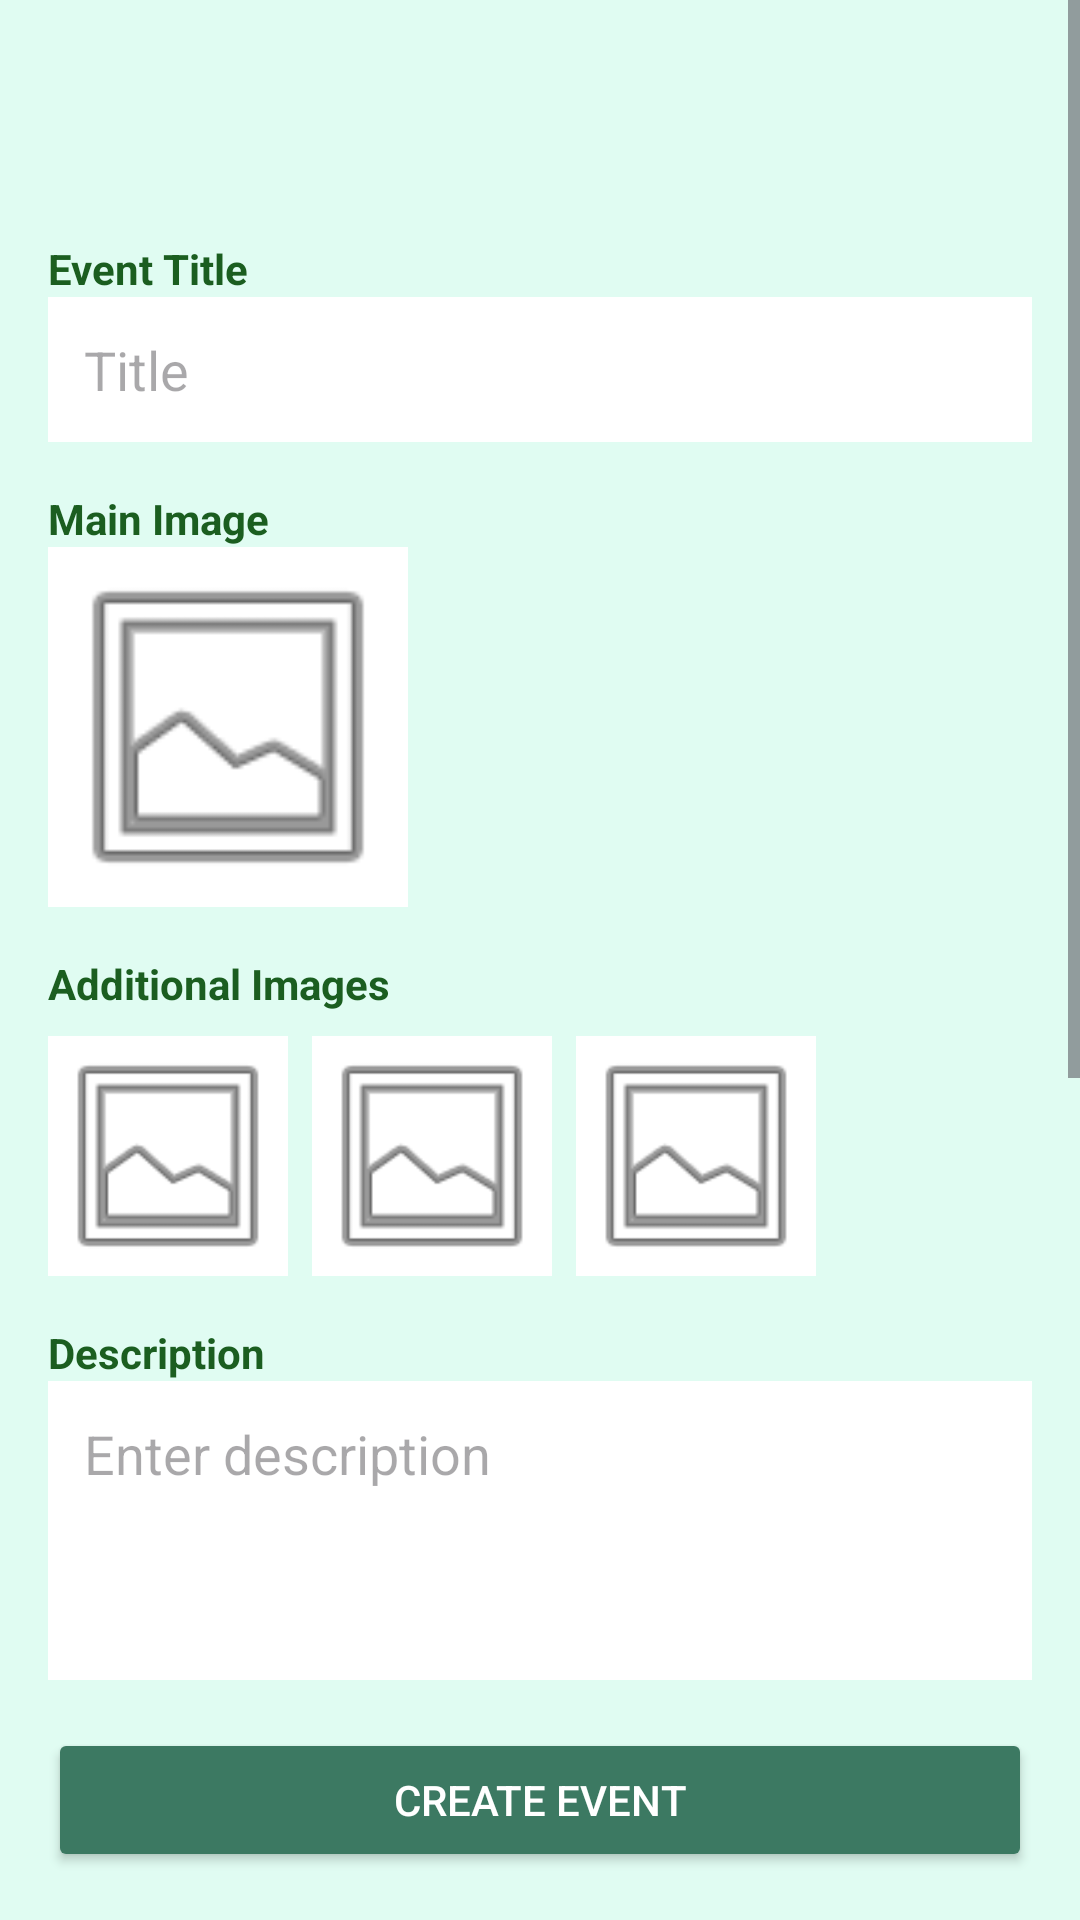

Screen size 1080*1920. Icon name, then its center in pixels as (x,y):
gallery: (228,727), (168,1156), (432,1156), (696,1156)
